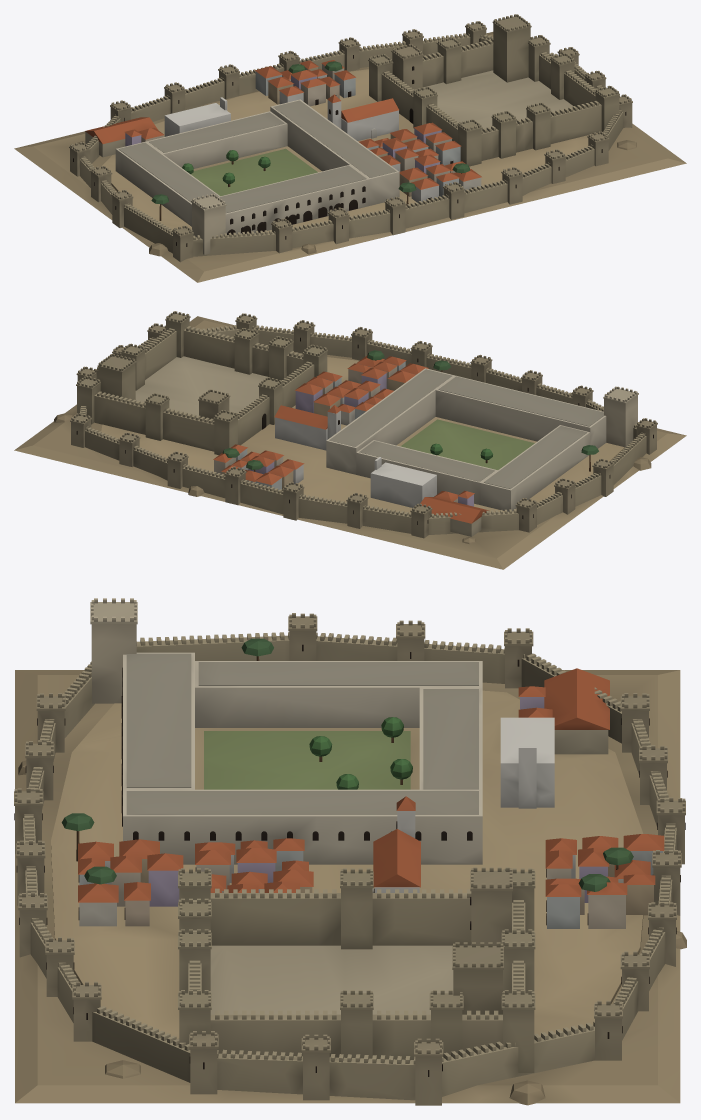
Rendered from castelo-1800.glb.
3 views of the same model, one above another, from view 1: azimuth 30°, elevation 25°; view 2: azimuth 150°, elevation 25°; view 3: azimuth 270°, elevation 25° (orthographic). The views are drawn at different scales.
Parts seen in each view (by area): view 1: p2_castle, p1_walls, p0_hill; view 2: p2_castle, p1_walls, p0_hill; view 3: p2_castle, p0_hill, p1_walls.
Boxes of the visible parts, left/top/right/bottom form: p2_castle: left=85, top=14, right=619, bottom=254; p1_walls: left=69, top=21, right=632, bottom=262; p0_hill: left=14, top=32, right=686, bottom=282; p2_castle: left=76, top=311, right=638, bottom=536; p1_walls: left=70, top=313, right=657, bottom=538; p0_hill: left=14, top=316, right=686, bottom=569; p2_castle: left=61, top=598, right=633, bottom=1072; p0_hill: left=15, top=670, right=686, bottom=1105; p1_walls: left=14, top=613, right=685, bottom=1105.
Size of the model in its own units: 232 by 26.68 by 150.
